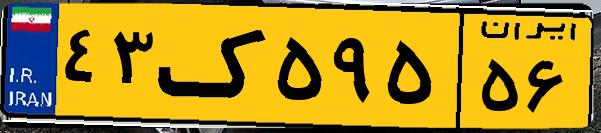3: (110, 28, 158, 98)
4: (57, 26, 110, 100)
5: (270, 28, 330, 110), (385, 28, 445, 110), (475, 38, 525, 113)
6: (525, 38, 570, 115)
9: (330, 28, 385, 110)
ک: (158, 12, 270, 120)
